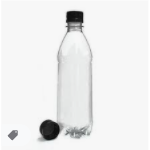Bottle: (57, 11, 94, 137)
